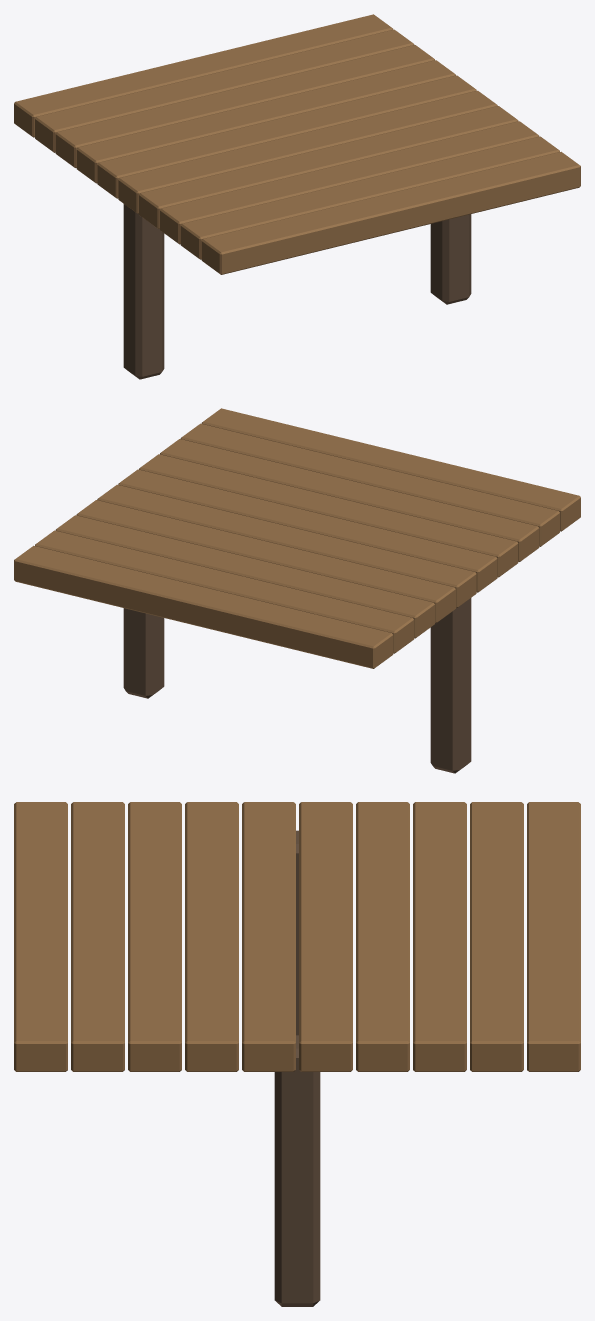
The model's file is harbor-pier.lod0.glb.
The picture shows the model from 3 angles, top to bottom: view 1: azimuth 30°, elevation 25°; view 2: azimuth 150°, elevation 25°; view 3: azimuth 270°, elevation 25°; orthographic projection. The views are drawn at different scales.
Visible parts, largest first — view 1: harbor-pier__body; view 2: harbor-pier__body; view 3: harbor-pier__body.
Part boxes in pixels (<box>): harbor-pier__body: <box>14,14,580,379</box>; harbor-pier__body: <box>14,408,580,773</box>; harbor-pier__body: <box>14,802,580,1306</box>.
Bounding box in the file's own units: 2 × 1.07 × 1.99.
